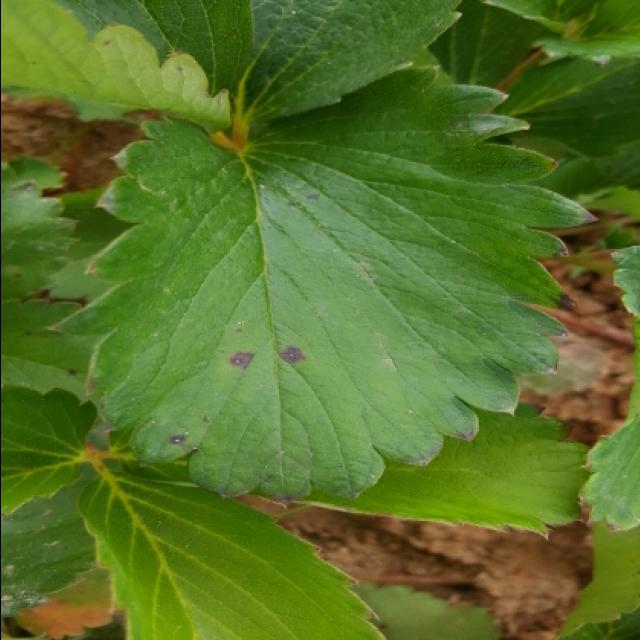Leaf Spot: (44, 64, 600, 502), (2, 297, 101, 399)
